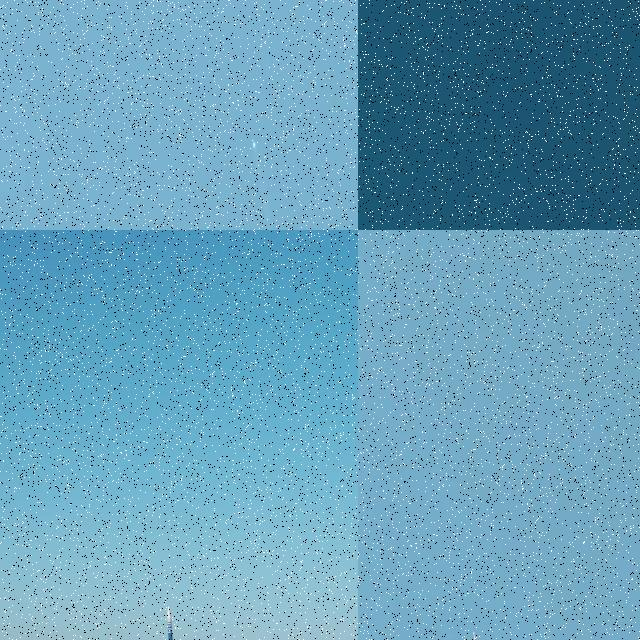Rocket: (166, 605, 180, 640), (252, 139, 256, 148), (473, 632, 477, 640)
